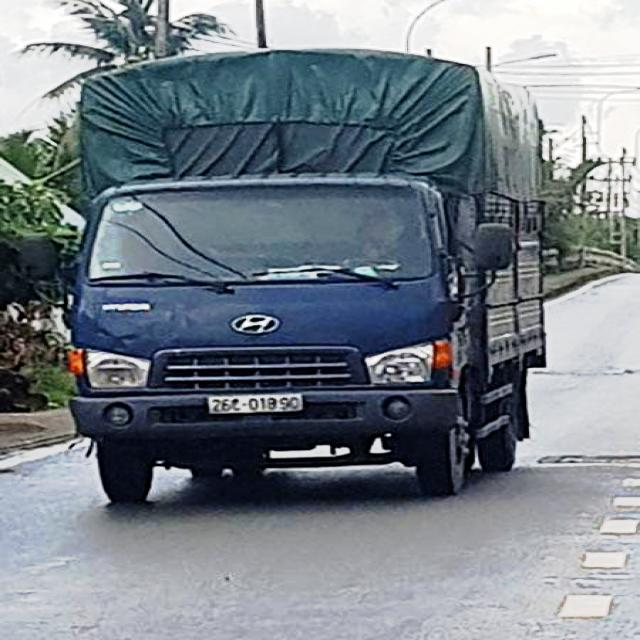license_plate: (210, 395, 304, 414)
